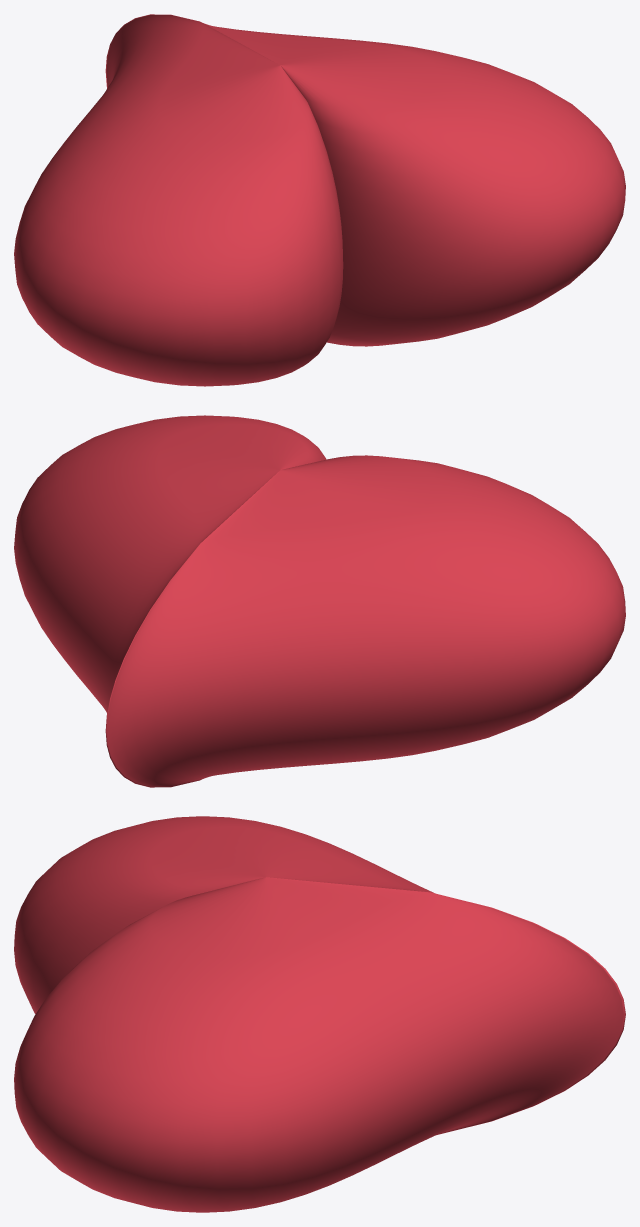
File: corazon-demo.gltf
The picture shows the model from 3 angles, top to bottom: view 1: azimuth 30°, elevation 25°; view 2: azimuth 150°, elevation 25°; view 3: azimuth 270°, elevation 25°; orthographic projection. The views are drawn at different scales.
Size of the model in its own units: 1.76 by 0.7872 by 1.59.
